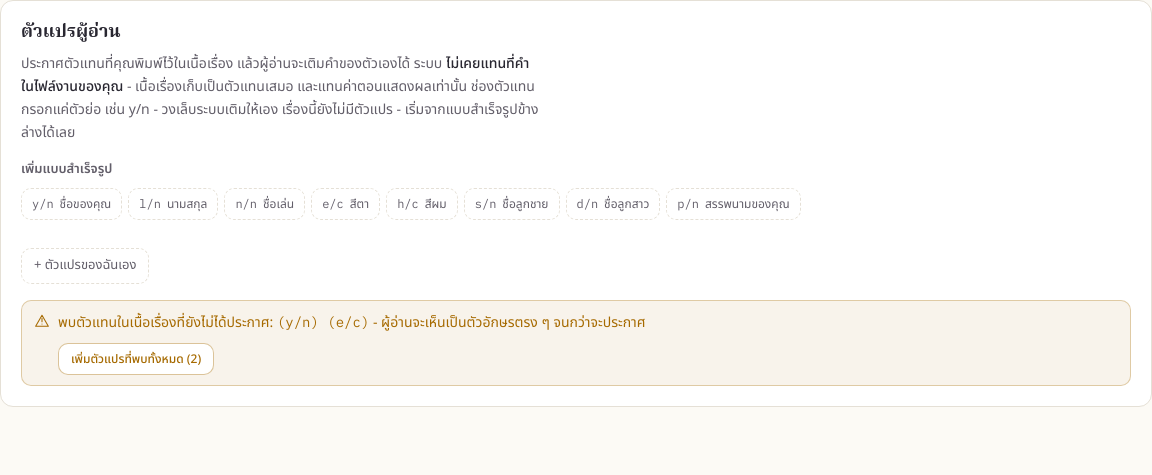
Scenario: VariableTable (review round: the warning fixes itself) › adopts every found token in one press, preset questions included
The width and height of the screenshot is (1152, 475).
Click the button "เพิ่มตัวแปรที่พบทั้งหมด (2)": {"x": 136, "y": 358} [58, 342, 214, 374]
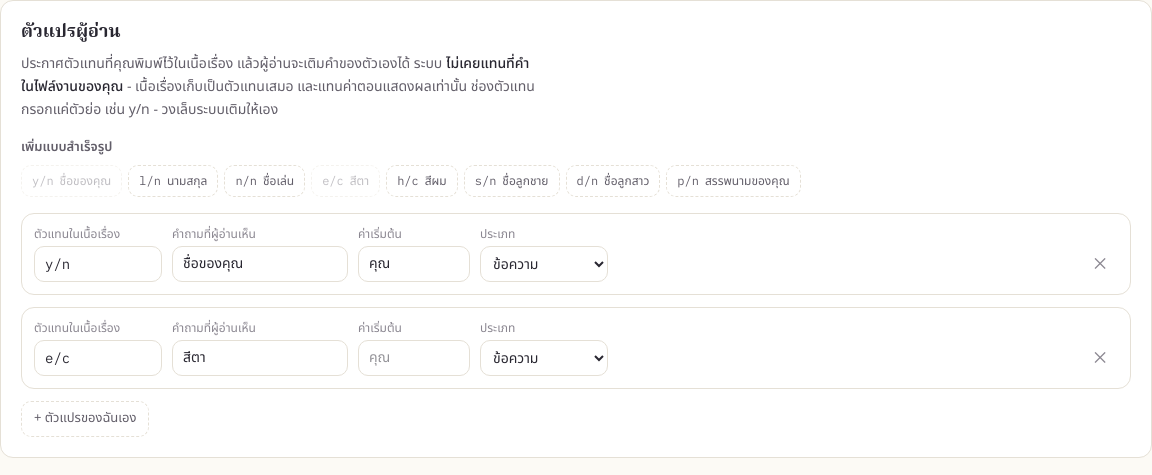
Expected: the 1st field showing "y/n" is shown, [34, 246, 162, 282]
Expected: the 1st field showing "ชื่อของคุณ" is shown, [172, 246, 348, 282]
Expected: the 2nd field showing "e/c" is shown, [34, 340, 162, 376]
